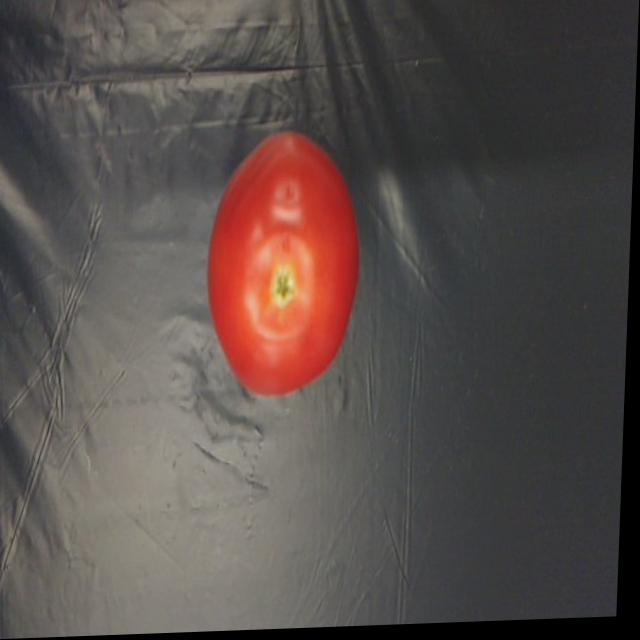kirmizi: (204, 128, 386, 436)
